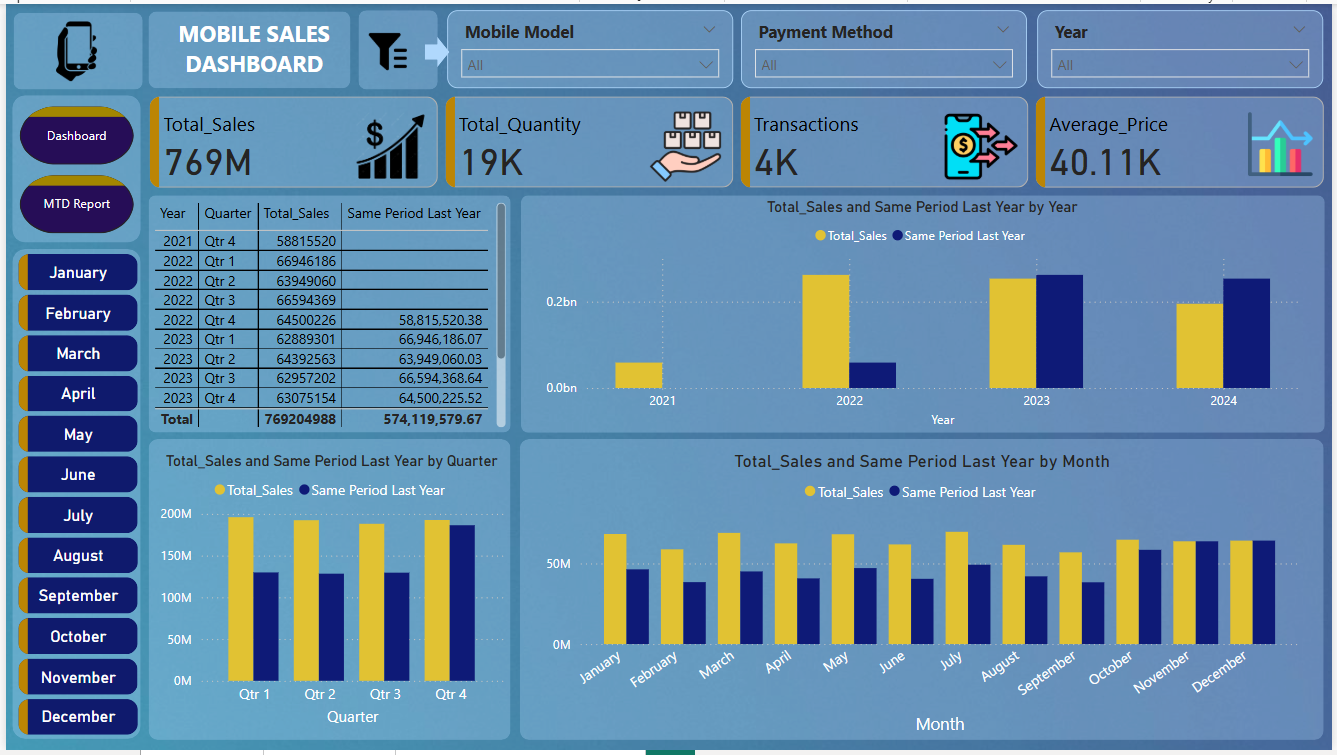

The page's visual inventory and layout, read from the dashboard file:
{"tool":"powerbi","page":{"name":"Same Period Last Year Report","canvas":[1280,720],"ordinal":2},"visuals":[{"type":"shape","box":[7.2,8.2,124.9,74.1],"z":0,"group":"g1"},{"type":"shape","box":[6,88.1,124.3,142.4],"z":0},{"type":"image","box":[19.5,12.3,97.4,67.2],"z":1000,"group":"g1"},{"type":"shape","box":[137.2,6.9,194.9,74.1],"z":1000},{"type":"textbox","box":[146,8.4,187,73.6],"z":2000},{"type":"cardVisual","fields":{"Data":["All Measures.Total_Sales","All Measures.Total_Quantity","All Measures.Transactions","All Measures.Average_Price"]},"box":[133.9,84.5,1144.9,98.9],"z":3000},{"type":"group","id":"g1","title":"Group 1","box":[7.2,8.2,124.9,74.1],"z":4000},{"type":"slicer","fields":{"Values":["Mobile Sales Data.Mobile Model"]},"box":[426.3,6,276.2,75],"z":5000},{"type":"slicer","fields":{"Values":["Mobile Sales Data.Payment Method"]},"box":[709.9,6,276.2,75],"z":6000},{"type":"slicer","fields":{"Values":["Custom Calendar.Date.Variation.Date Hierarchy.Year"]},"box":[995.1,6,276.2,75],"z":7000},{"type":"shape","box":[340.7,6,76.5,76.5],"z":8000},{"type":"image","box":[327.2,22.5,82.6,46.5],"z":9000},{"type":"shape","box":[403.8,31.5,24,30],"z":10000},{"type":"shape","box":[137.5,184.6,349.9,229.2],"z":11000},{"type":"tableEx","fields":{"Values":["Custom Calendar.Date.Variation.Date Hierarchy.Year","Custom Calendar.Date.Variation.Date Hierarchy.Quarter","All Measures.Total_Sales","All Measures.Same Period Last Year"]},"box":[137.5,187,349.9,226.8],"z":12000},{"type":"shape","box":[497.1,184.6,775.7,229.2],"z":13000},{"type":"clusteredColumnChart","fields":{"Category":["Custom Calendar.Date.Variation.Date Hierarchy.Year","Custom Calendar.Date.Variation.Date Hierarchy.Quarter"],"Y":["All Measures.Total_Sales","All Measures.Same Period Last Year"]},"box":[516.4,187,735.9,226.8],"z":14000},{"type":"shape","box":[137.5,419.8,349.9,290.8],"z":15000},{"type":"clusteredColumnChart","fields":{"Category":["Custom Calendar.Date.Variation.Date Hierarchy.Quarter"],"Y":["All Measures.Total_Sales","All Measures.Same Period Last Year"]},"box":[143.6,431.9,341.4,270.2],"z":16000},{"type":"shape","box":[495.8,419.8,775.7,290.8],"z":17000},{"type":"clusteredColumnChart","fields":{"Y":["All Measures.Total_Sales","All Measures.Same Period Last Year"],"Category":["Custom Calendar.Date.Variation.Date Hierarchy.Month"]},"box":[516.4,430.7,735.9,278.7],"z":18000},{"type":"pageNavigator","box":[13.3,98.9,111,123.1],"z":19000},{"type":"shape","box":[6,236.5,124.3,472.9],"z":20000},{"type":"advancedSlicerVisual","fields":{"Values":["Custom Calendar.Date.Variation.Date Hierarchy.Month"]},"box":[7.2,236.5,125.5,474.1],"z":21000}]}

Visuals, with their boxes in screenshot pixels (x1, y1, x2, y2), scaled from the page's 1280x720 canvas onto the 1337x755 screenshot:
shape: l=8, t=9, r=138, b=86
shape: l=6, t=92, r=136, b=242
image: l=20, t=13, r=122, b=83
shape: l=143, t=7, r=347, b=85
textbox: l=153, t=9, r=348, b=86
cardVisual - All Measures.Total_Sales x All Measures.Total_Quantity: l=140, t=89, r=1336, b=192
"Group 1" group: l=8, t=9, r=138, b=86
slicer - Mobile Sales Data.Mobile Model: l=445, t=6, r=734, b=85
slicer - Mobile Sales Data.Payment Method: l=742, t=6, r=1030, b=85
slicer - Custom Calendar.Date.Variation.Date Hierarchy.Year: l=1039, t=6, r=1328, b=85
shape: l=356, t=6, r=436, b=87
image: l=342, t=24, r=428, b=72
shape: l=422, t=33, r=447, b=64
shape: l=144, t=194, r=509, b=434
tableEx - Custom Calendar.Date.Variation.Date Hierarchy.Year x Custom Calendar.Date.Variation.Date Hierarchy.Quarter: l=144, t=196, r=509, b=434
shape: l=519, t=194, r=1329, b=434
clusteredColumnChart - Custom Calendar.Date.Variation.Date Hierarchy.Year x Custom Calendar.Date.Variation.Date Hierarchy.Quarter: l=539, t=196, r=1308, b=434
shape: l=144, t=440, r=509, b=745
clusteredColumnChart - Custom Calendar.Date.Variation.Date Hierarchy.Quarter x All Measures.Total_Sales: l=150, t=453, r=507, b=736
shape: l=518, t=440, r=1328, b=745
clusteredColumnChart - All Measures.Total_Sales x All Measures.Same Period Last Year: l=539, t=452, r=1308, b=744
pageNavigator: l=14, t=104, r=130, b=233
shape: l=6, t=248, r=136, b=744
advancedSlicerVisual - Custom Calendar.Date.Variation.Date Hierarchy.Month: l=8, t=248, r=139, b=745
